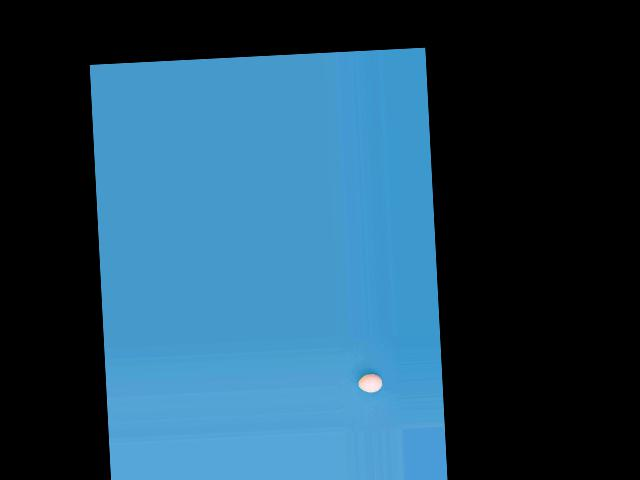egg: (357, 373, 383, 393)
